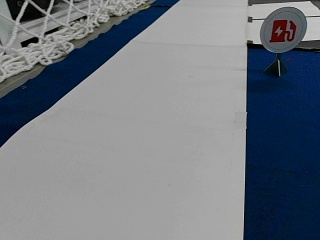battery: (258, 4, 306, 53)
